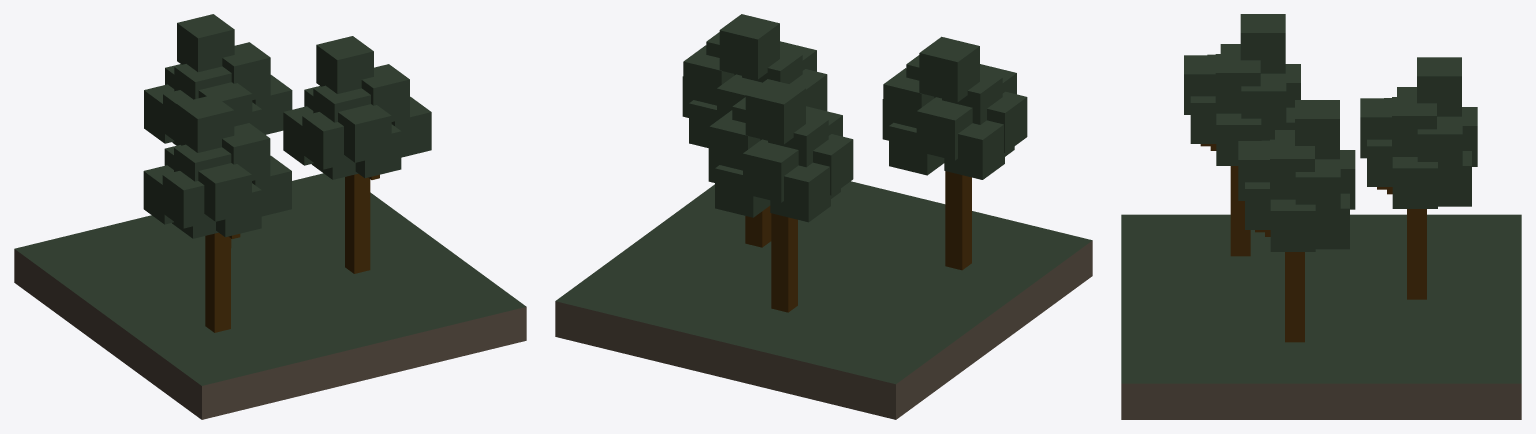
Rendered from trees-0.glb.
3 views of the same model, side by side, from view 1: azimuth 30°, elevation 25°; view 2: azimuth 150°, elevation 25°; view 3: azimuth 270°, elevation 25° (orthographic). The views are drawn at different scales.
Parts seen in each view (by area): view 1: Tile::EmptyLot.003; view 2: Tile::EmptyLot.003; view 3: Tile::EmptyLot.003.
Part boxes in pixels (<box>): Tile::EmptyLot.003: <box>14,14,526,419</box>; Tile::EmptyLot.003: <box>555,14,1092,419</box>; Tile::EmptyLot.003: <box>1121,14,1521,419</box>.
Bounding box in the file's own units: 1 × 0.7277 × 1.
